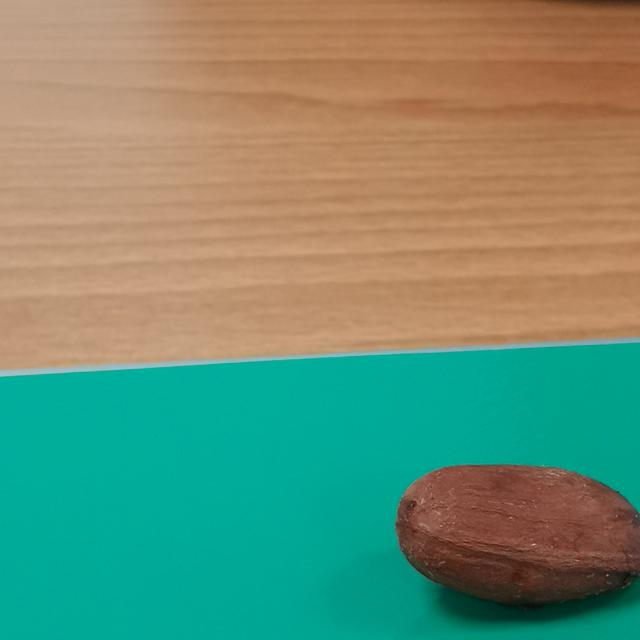Fine_cocoabeans: (351, 424, 640, 640)
